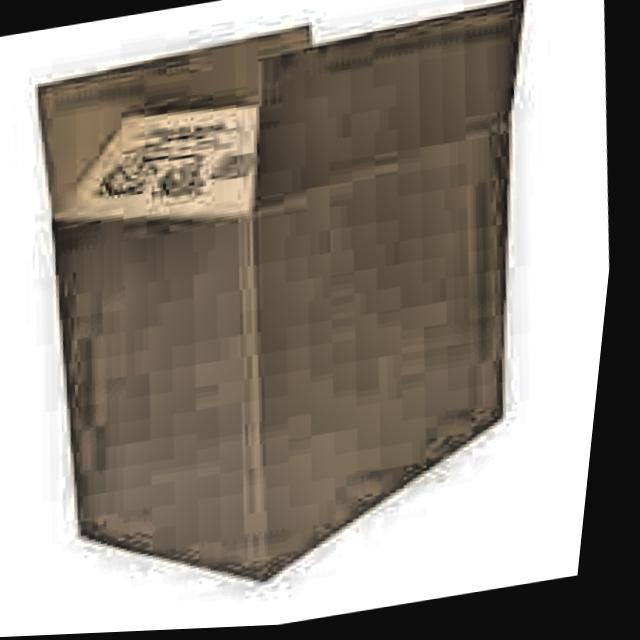Cardbox: (0, 0, 598, 638)
